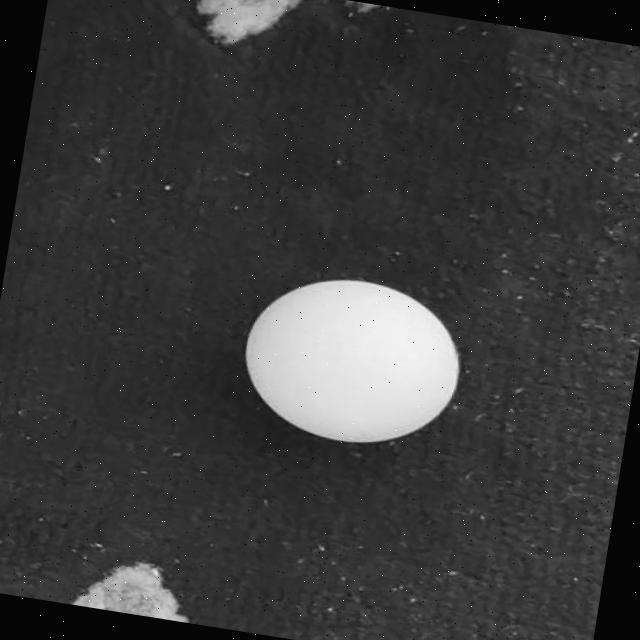ping-pong-ball: (240, 268, 470, 457)
